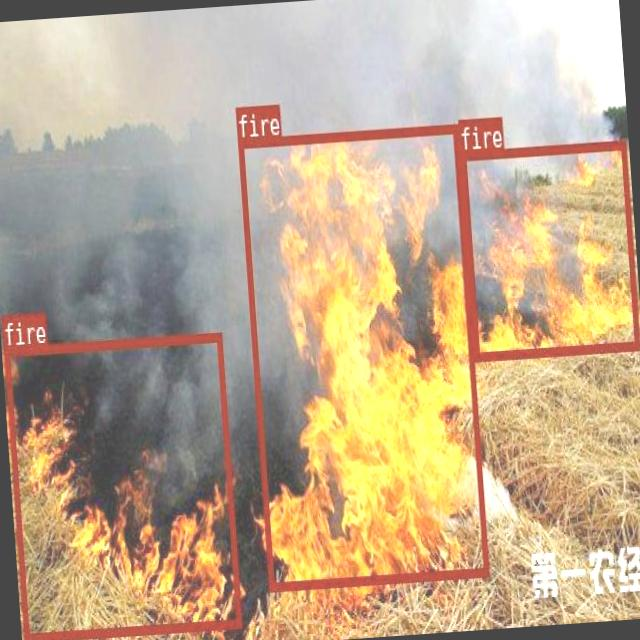fire: (237, 122, 488, 588), (2, 329, 241, 640), (459, 138, 639, 359)
